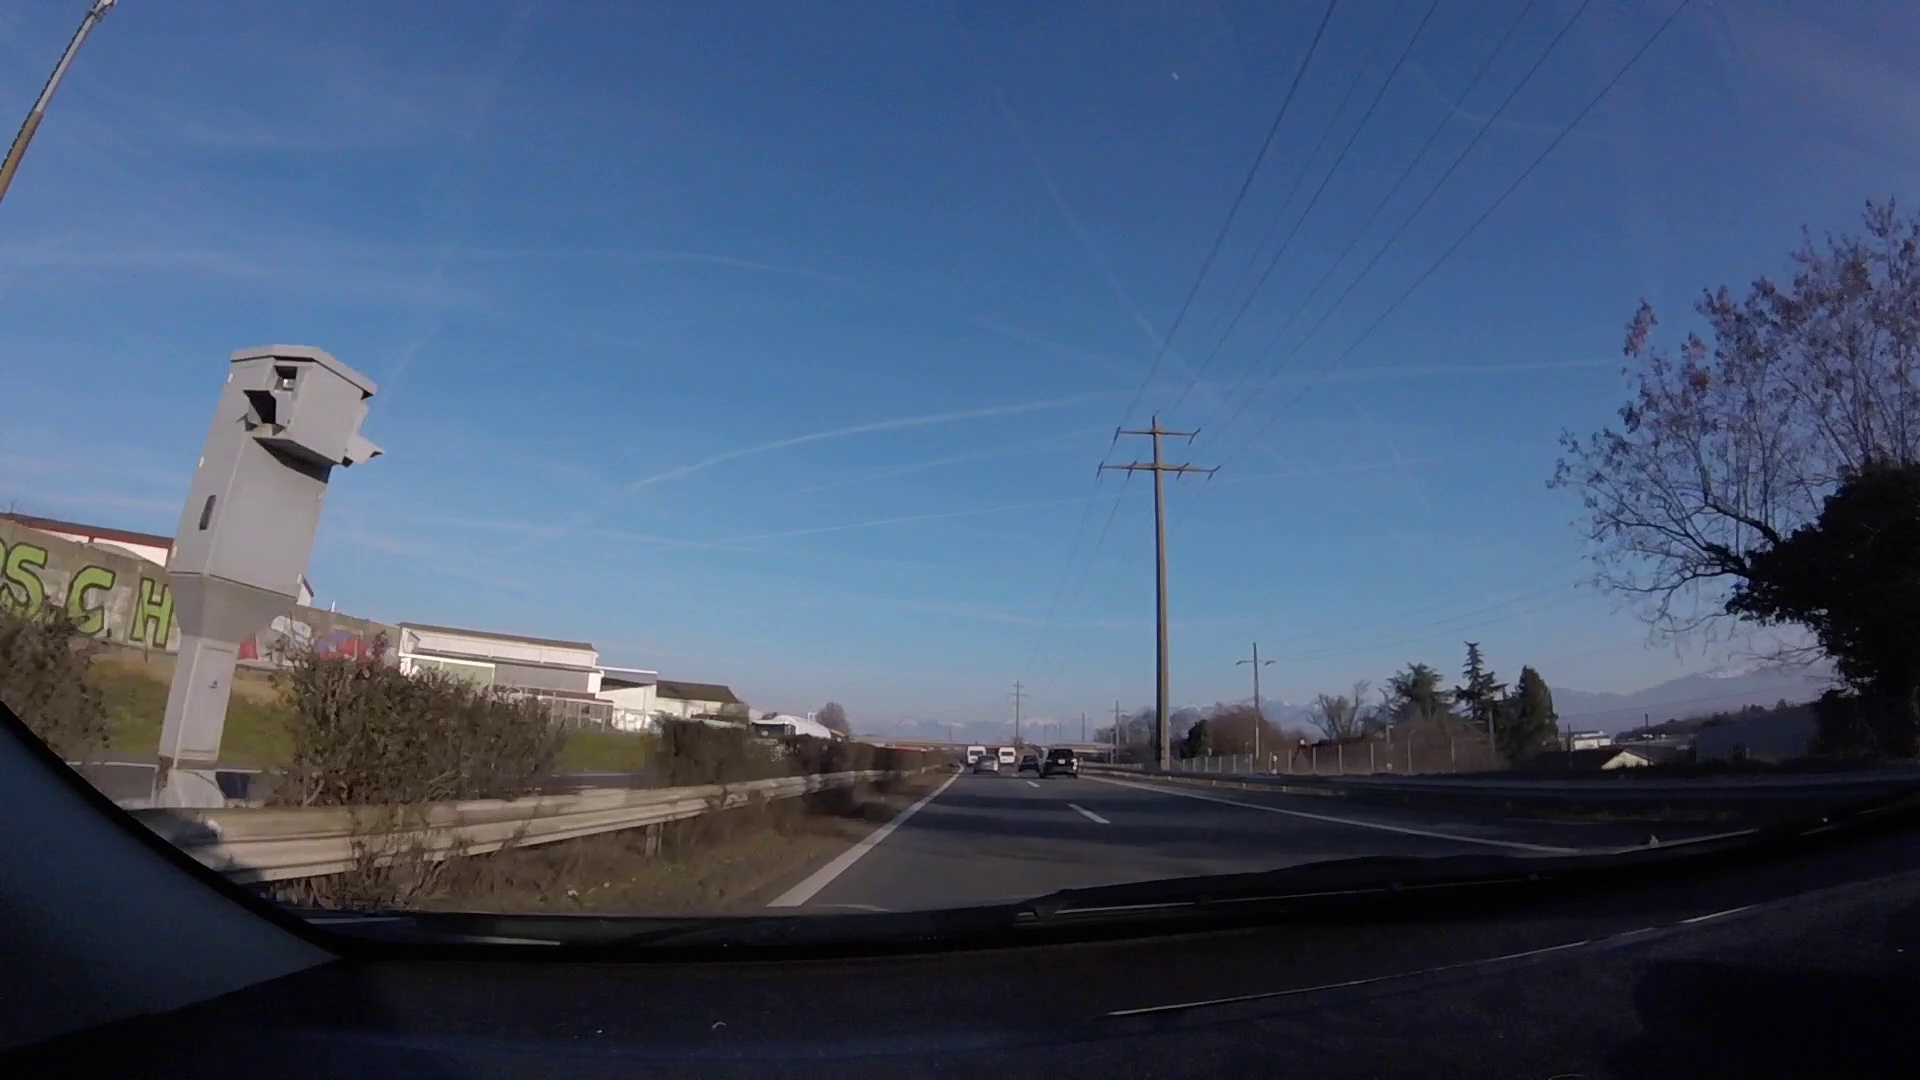radar: (162, 339, 386, 771)
